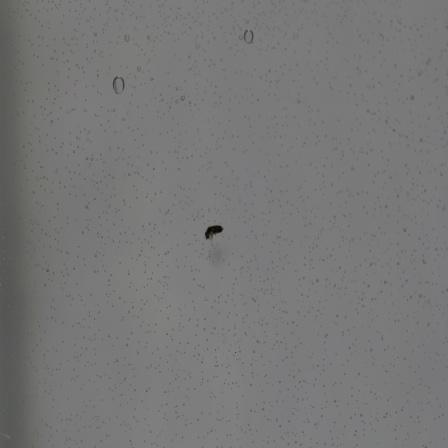Jentik-Nyamuk: (201, 216, 226, 248)
